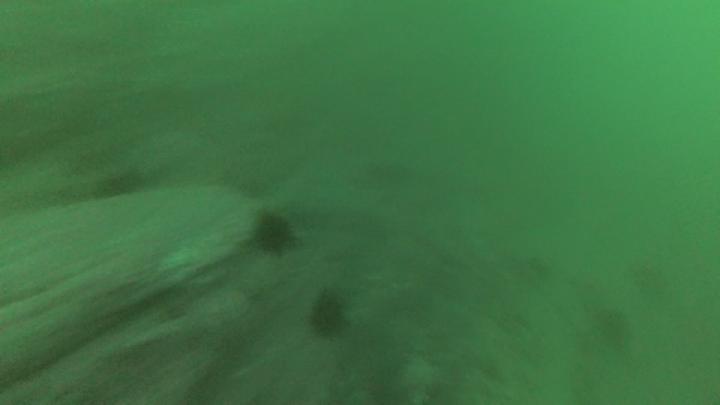echinus: (308, 284, 353, 344), (252, 211, 300, 259)
